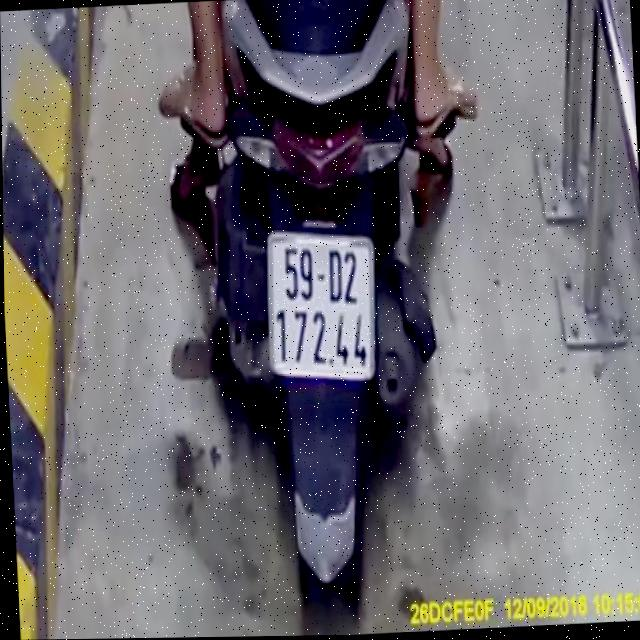motorcycle: (185, 0, 455, 627)
plate: (260, 223, 379, 388)
